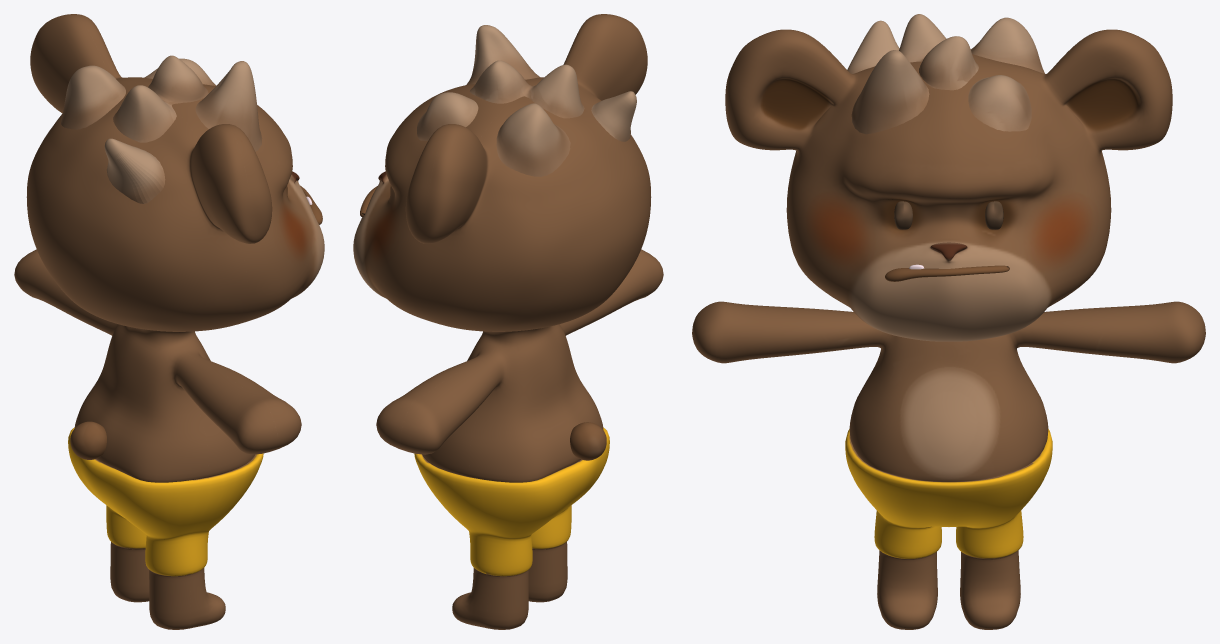
The model's file is Teddy.fbx.
3 renders of one model, left to right at view 1: azimuth 30°, elevation 25°; view 2: azimuth 150°, elevation 25°; view 3: azimuth 270°, elevation 25°, orthographic. The views are drawn at different scales.
Parts seen in each view (by area): view 1: eyes; view 2: eyes; view 3: eyes.
Part boxes in pixels (left/top/right/bottom): eyes: left=14, top=14, right=324, bottom=629; eyes: left=353, top=14, right=663, bottom=629; eyes: left=692, top=14, right=1205, bottom=629.
Bounding box in the file's own units: 157 × 325 × 257.
6 materials, 5 textured.
